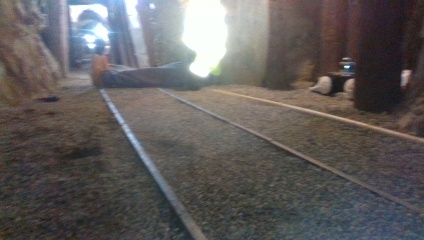manikin: (88, 0, 239, 86)
